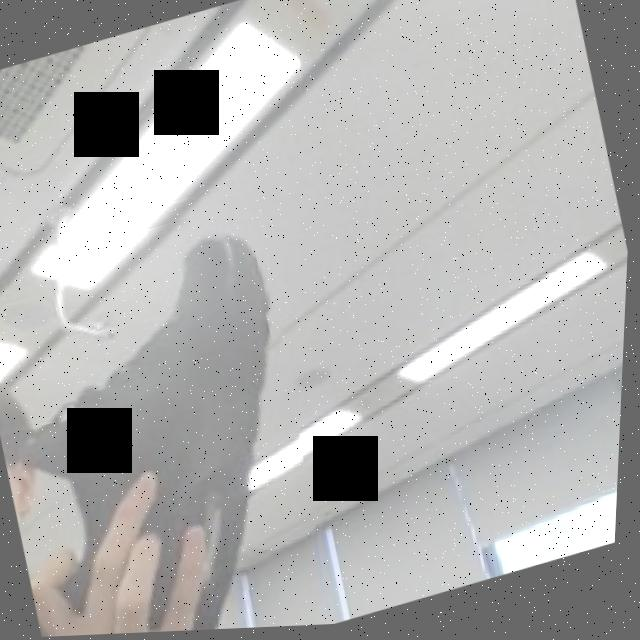shoe: (0, 192, 362, 640)
